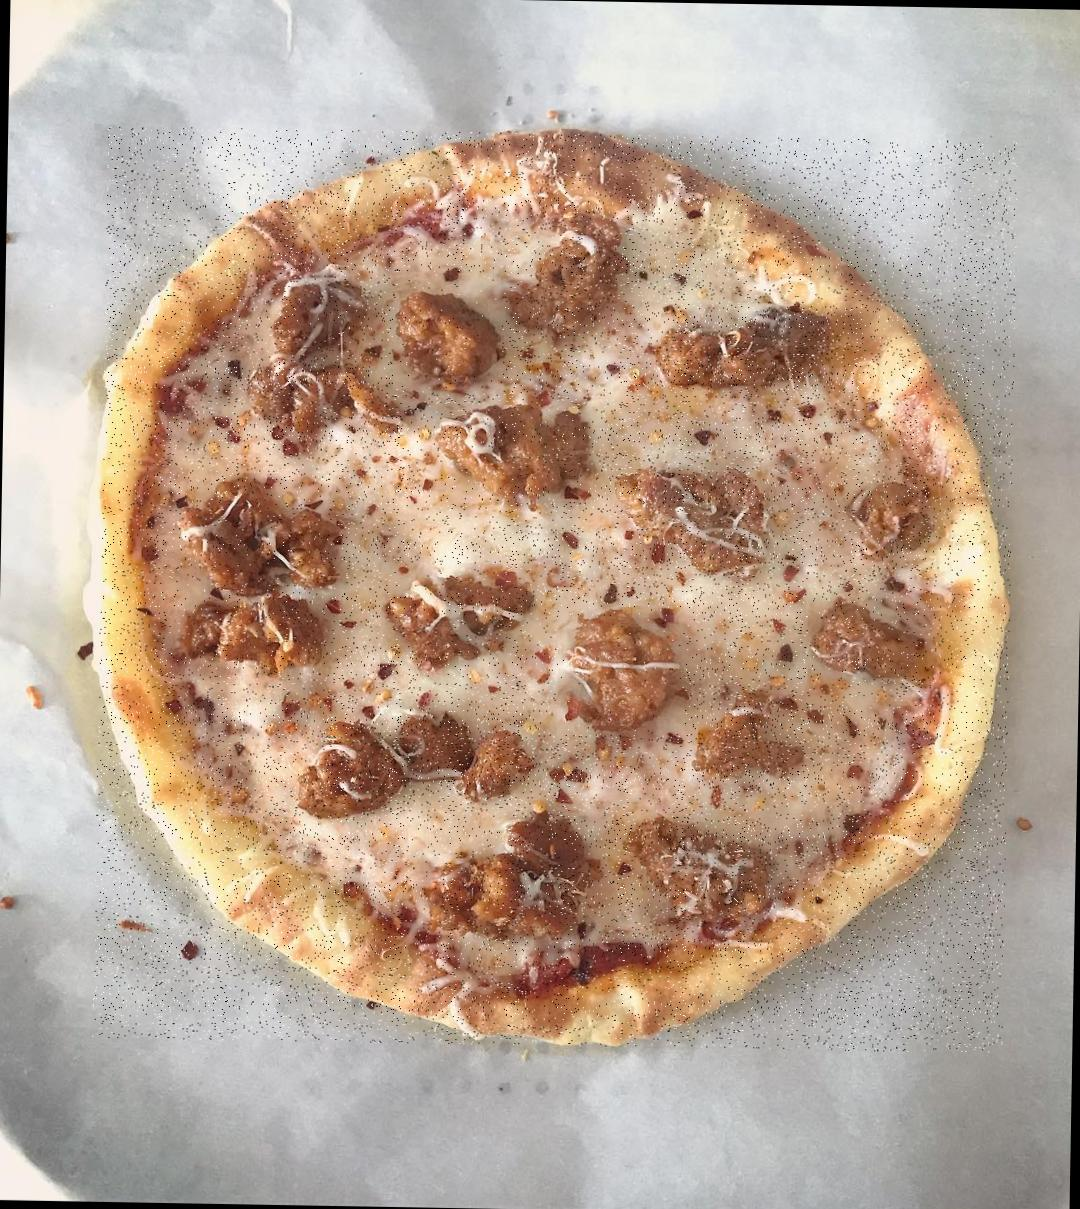Chicken: (165, 482, 345, 673), (291, 697, 536, 814), (417, 812, 599, 949), (611, 455, 776, 592), (615, 812, 784, 940), (381, 562, 542, 676), (558, 607, 688, 737), (424, 403, 595, 502), (807, 592, 950, 705), (661, 303, 840, 391), (504, 217, 627, 341), (244, 363, 401, 452), (393, 272, 505, 394), (697, 692, 811, 790), (263, 269, 363, 365), (844, 462, 935, 561)
Pizza: (93, 125, 1018, 1054)
